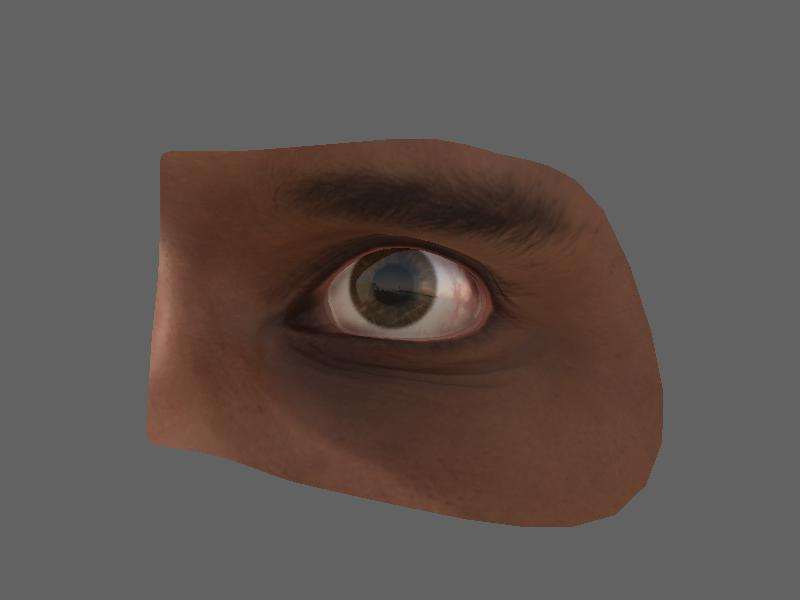iris: (341, 244, 441, 326)
